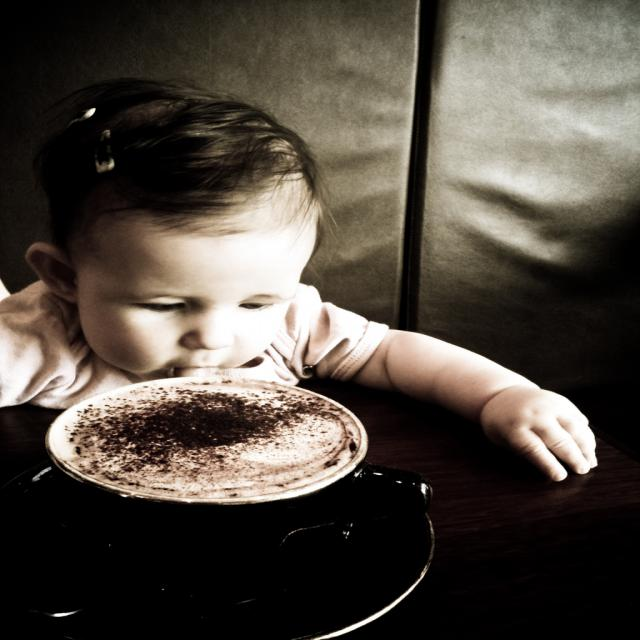Coffee: (40, 414, 443, 616)
